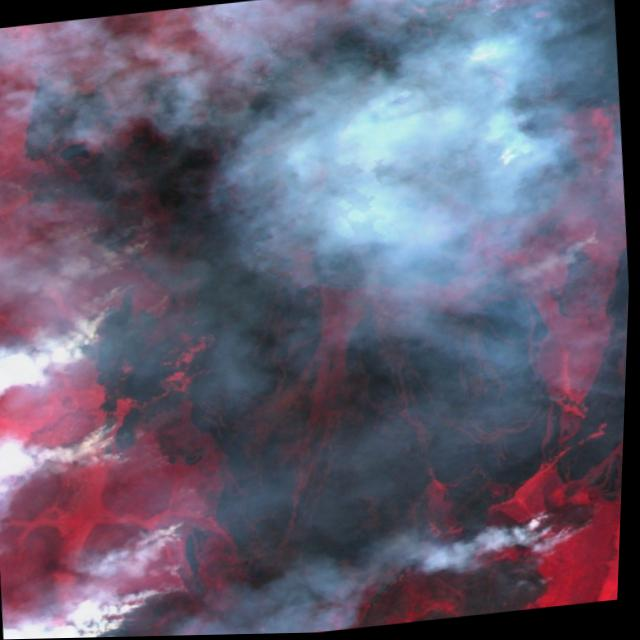fire: (0, 152, 251, 640), (520, 493, 610, 557)
